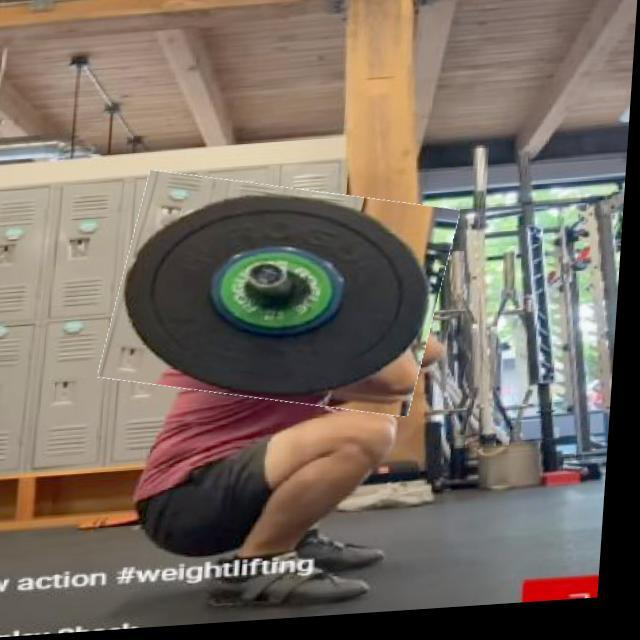barbell: (110, 172, 459, 426)
